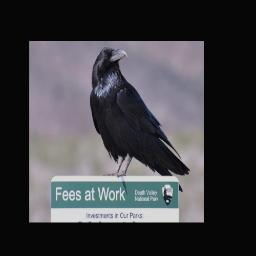Crow: (90, 46, 191, 194)
